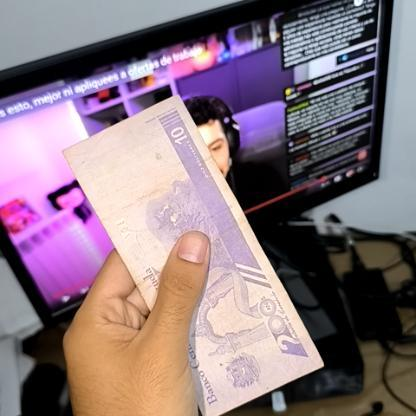vef_back: (58, 93, 328, 416)
